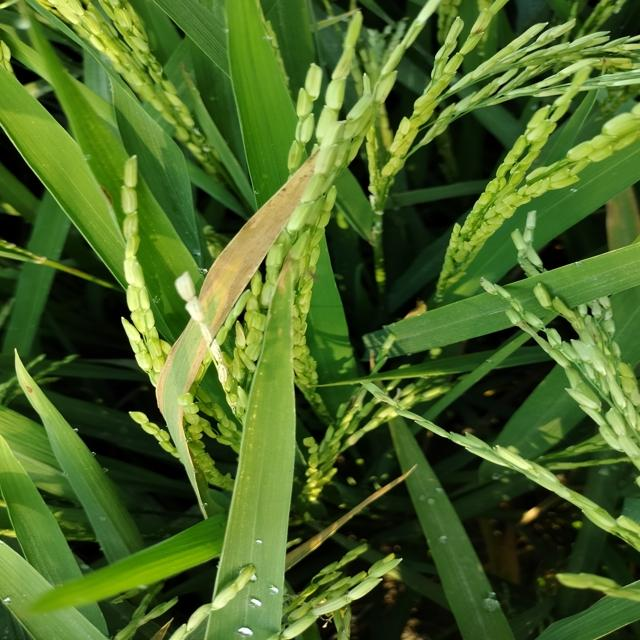healthy: (201, 147, 322, 345)
